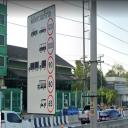speed_limit_100: (46, 37, 54, 54)
speed_limit_120: (47, 18, 54, 36)
speed_limit_80: (47, 75, 54, 94)
speed_limit_90: (47, 56, 54, 74)
